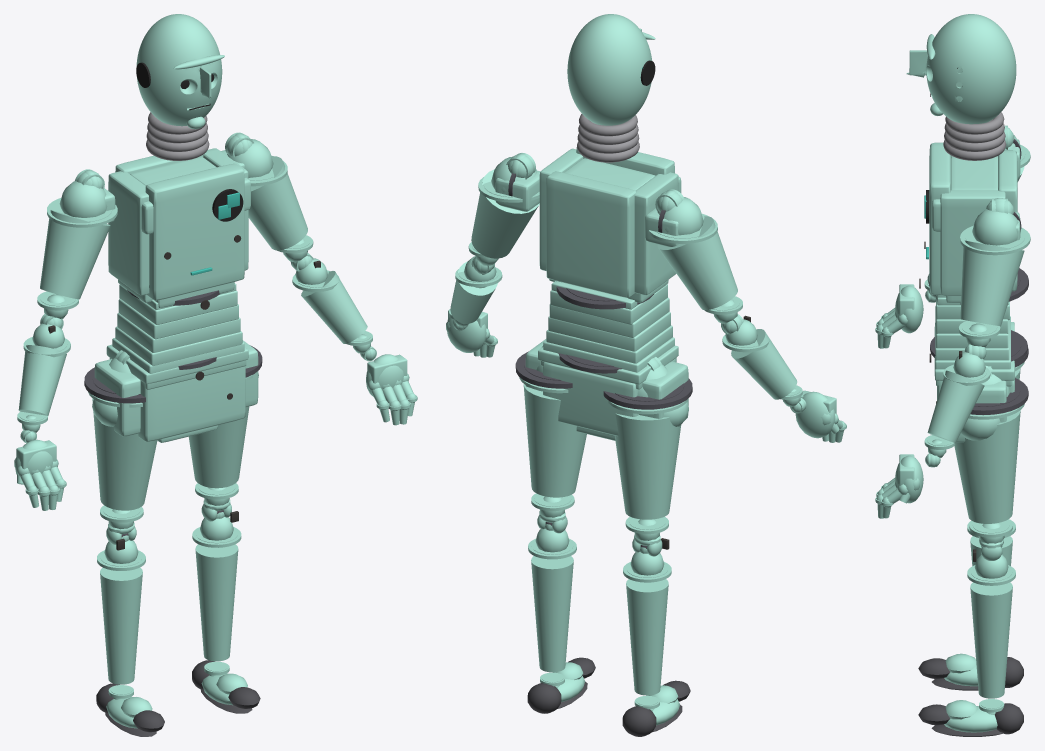
The model's file is Dummy_Mannequin_Mint_Hier_Hi.fbx.
3 renders of one model, left to right at view 1: azimuth 30°, elevation 25°; view 2: azimuth 150°, elevation 25°; view 3: azimuth 270°, elevation 25°, orthographic.
Parts seen in each view (by area): view 1: Mesh_Chest, Mesh_Hips, Mesh_Head, Mesh_UpperArm_R, Mesh_UpperLeg_R, Mesh_LowerLeg_L, Mesh_LowerLeg_R, Mesh_UpperArm_L, Mesh_UpperLeg_L, Mesh_LowerArm_R, Mesh_LowerArm_L, Mesh_Hand_R (+5 smaller); view 2: Mesh_Chest, Mesh_UpperLeg_R, Mesh_Hips, Mesh_Head, Mesh_UpperLeg_L, Mesh_UpperArm_R, Mesh_LowerLeg_R, Mesh_LowerLeg_L, Mesh_UpperArm_L, Mesh_LowerArm_R, Mesh_LowerArm_L, Mesh_Neck (+5 smaller); view 3: Mesh_Chest, Mesh_Head, Mesh_UpperLeg_L, Mesh_UpperArm_L, Mesh_LowerLeg_L, Mesh_LowerArm_L, Mesh_Hips, Mesh_Foot_L, Mesh_Neck, Mesh_Foot_R, Mesh_Hand_L, Mesh_Hand_R (+3 smaller).
Part boxes in pixels (x1=…): Mesh_Chest: x1=104, y1=148, x2=250, y2=352; Mesh_Hips: x1=92, y1=338, x2=258, y2=442; Mesh_Head: x1=136, y1=14, x2=224, y2=129; Mesh_UpperArm_R: x1=37, y1=181, x2=117, y2=318; Mesh_UpperLeg_R: x1=84, y1=350, x2=157, y2=544; Mesh_LowerLeg_L: x1=192, y1=510, x2=241, y2=676; Mesh_LowerLeg_R: x1=97, y1=533, x2=145, y2=699; Mesh_UpperArm_L: x1=227, y1=139, x2=313, y2=262; Mesh_UpperLeg_L: x1=188, y1=345, x2=262, y2=521; Mesh_LowerArm_R: x1=17, y1=314, x2=70, y2=432; Mesh_LowerArm_L: x1=291, y1=253, x2=372, y2=353; Mesh_Hand_R: x1=14, y1=430, x2=66, y2=510; Mesh_Chest: x1=495, y1=147, x2=681, y2=351; Mesh_UpperLeg_R: x1=603, y1=357, x2=692, y2=556; Mesh_Hips: x1=525, y1=337, x2=688, y2=440; Mesh_Head: x1=567, y1=14, x2=655, y2=125; Mesh_UpperLeg_L: x1=515, y1=345, x2=586, y2=533; Mesh_UpperArm_R: x1=648, y1=197, x2=742, y2=323; Mesh_LowerLeg_R: x1=623, y1=538, x2=671, y2=711; Mesh_LowerLeg_L: x1=528, y1=522, x2=576, y2=688; Mesh_UpperArm_L: x1=468, y1=156, x2=539, y2=265; Mesh_LowerArm_R: x1=721, y1=314, x2=802, y2=406; Mesh_LowerArm_L: x1=449, y1=256, x2=502, y2=326; Mesh_Neck: x1=577, y1=114, x2=639, y2=162; Mesh_Chest: x1=919, y1=139, x2=1028, y2=348; Mesh_Head: x1=906, y1=14, x2=1016, y2=124; Mesh_UpperLeg_L: x1=954, y1=365, x2=1028, y2=560; Mesh_UpperArm_L: x1=958, y1=209, x2=1030, y2=347; Mesh_LowerLeg_L: x1=967, y1=549, x2=1015, y2=714; Mesh_LowerArm_L: x1=924, y1=344, x2=990, y2=457; Mesh_Hips: x1=929, y1=316, x2=1027, y2=442; Mesh_Foot_L: x1=918, y1=700, x2=1023, y2=736; Mesh_Neck: x1=943, y1=112, x2=1006, y2=160; Mesh_Foot_R: x1=918, y1=653, x2=1023, y2=690; Mesh_Hand_L: x1=875, y1=453, x2=940, y2=518; Mesh_Hand_R: x1=875, y1=284, x2=935, y2=348.
Bounding box in the file's own units: 1.07 × 1.81 × 0.3685.
